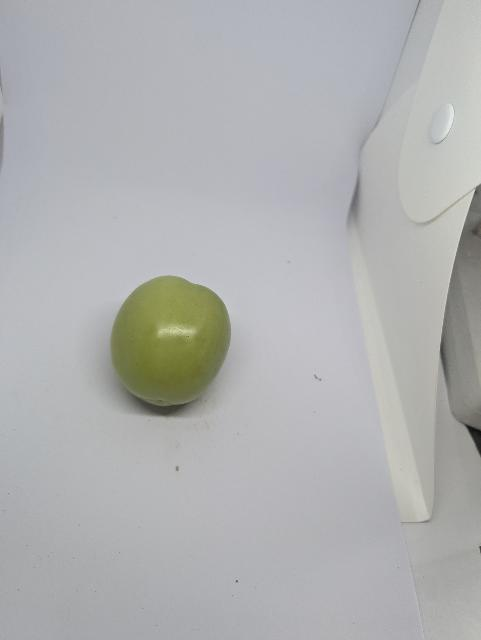green: (96, 265, 258, 424)
